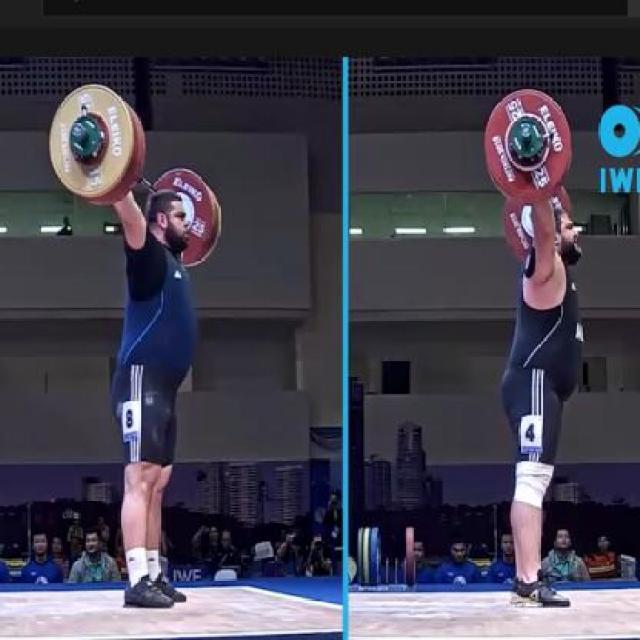Barbell: (516, 120, 538, 142), (68, 120, 86, 142)
